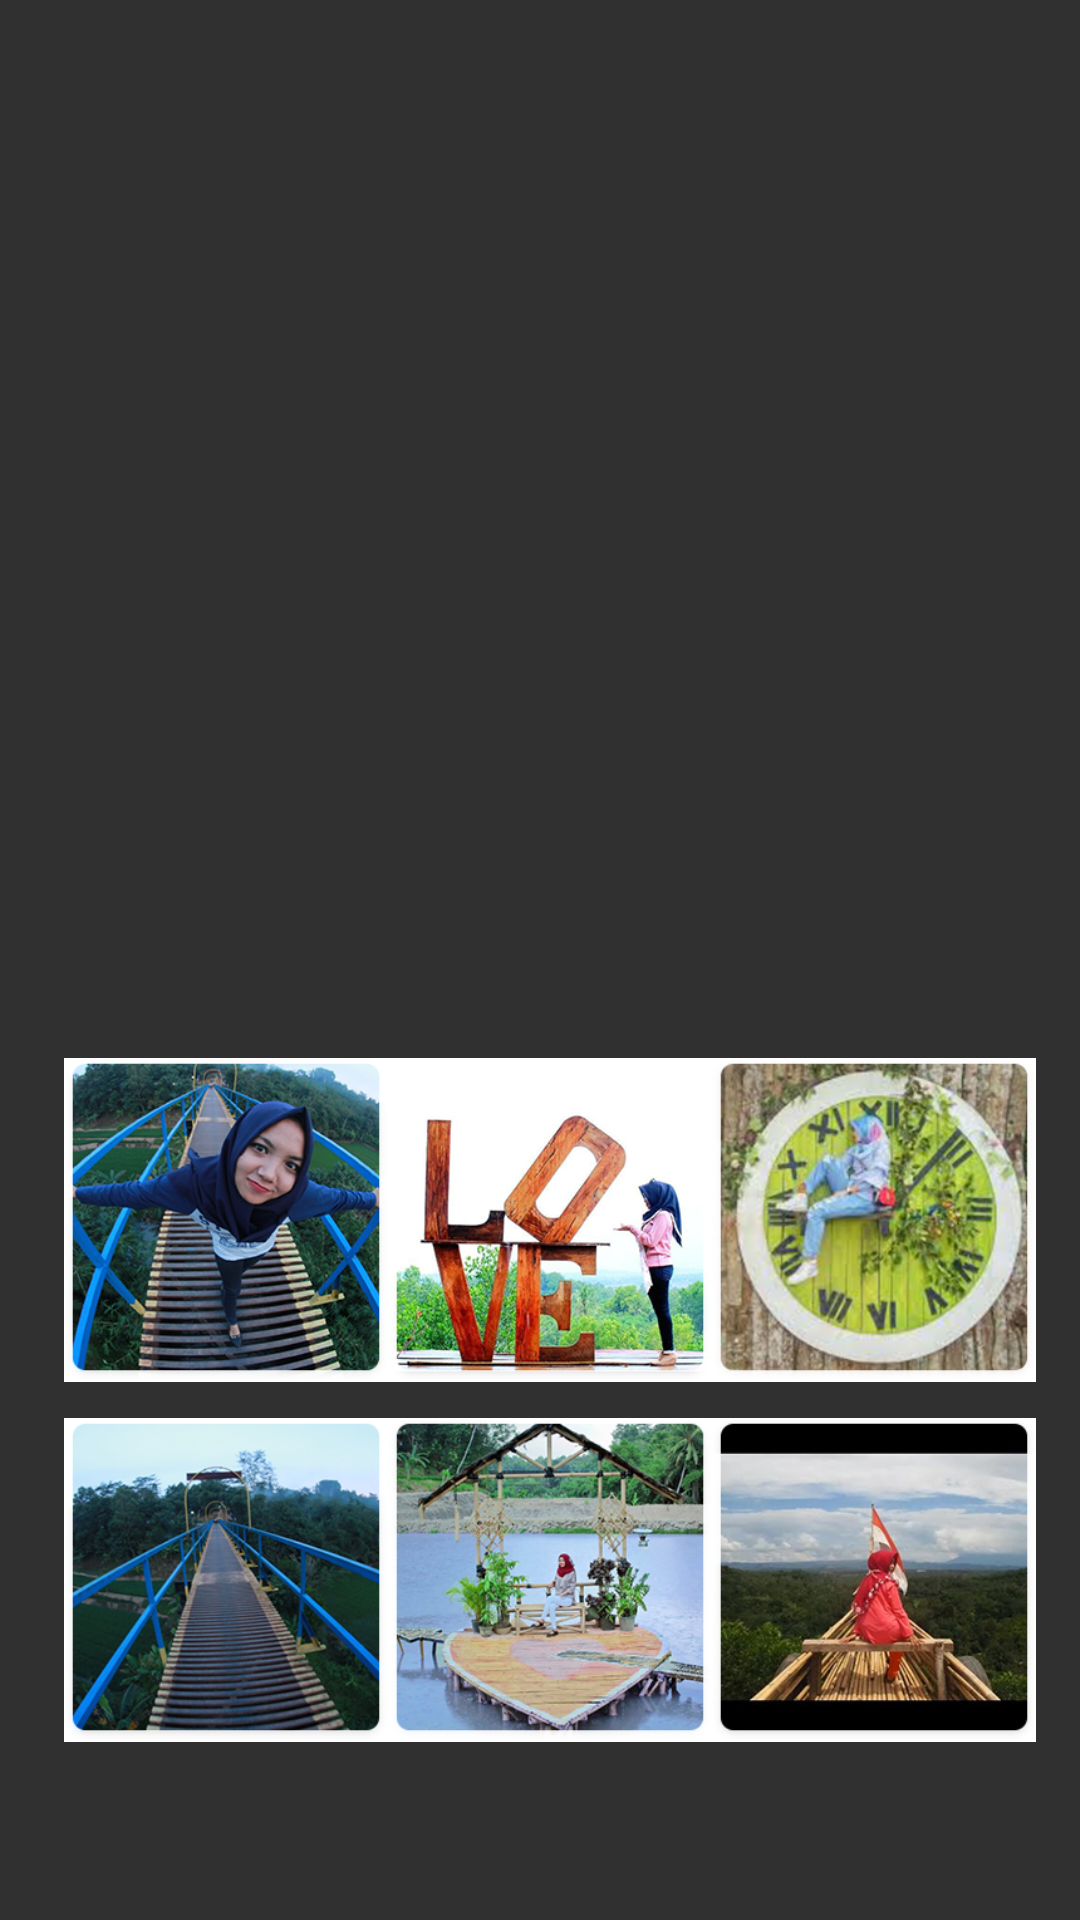

Screen size 1080w x 1920h. Icon name, then its center in pixels as (x=x, y=y):
gambar: (x=550, y=1219), (x=226, y=1220), (x=874, y=1220), (x=550, y=1579), (x=226, y=1580), (x=874, y=1580)
